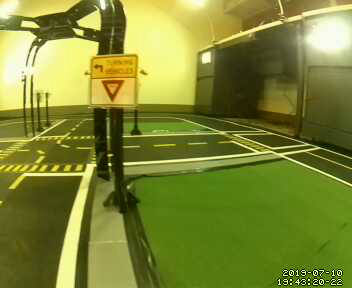Turn Yield: (88, 55, 138, 108)
